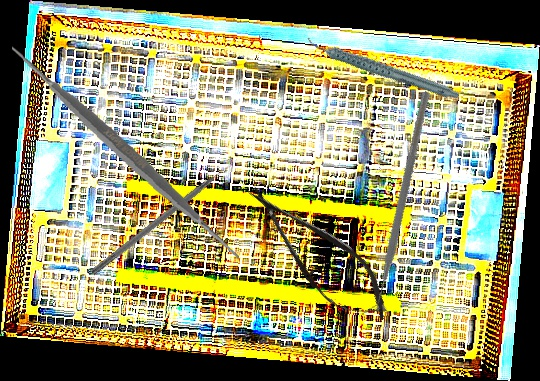Chopper: (298, 90, 491, 316)
Handpiece: (305, 6, 461, 128)
Hook Surgical: (89, 156, 241, 277)
Micro Scissor: (231, 169, 404, 339)
Spatula Surgical: (1, 30, 250, 277)
